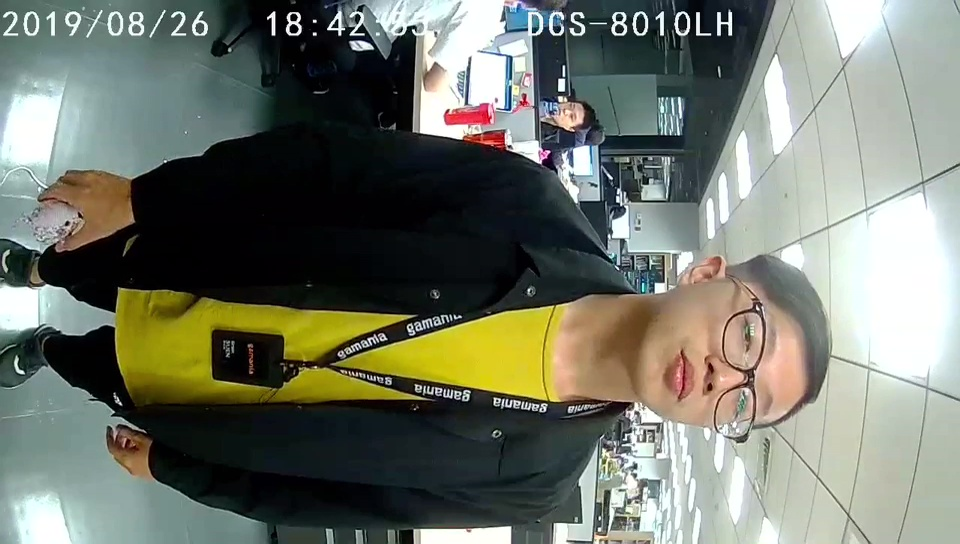pig: (32, 194, 86, 245)
